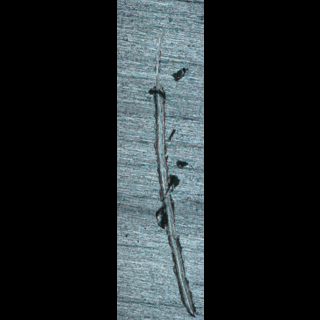d: (146, 8, 198, 318)
